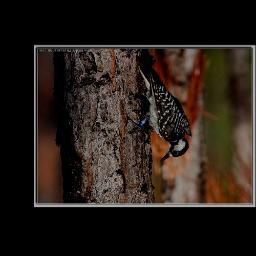Woodpecker: (119, 49, 197, 166)
